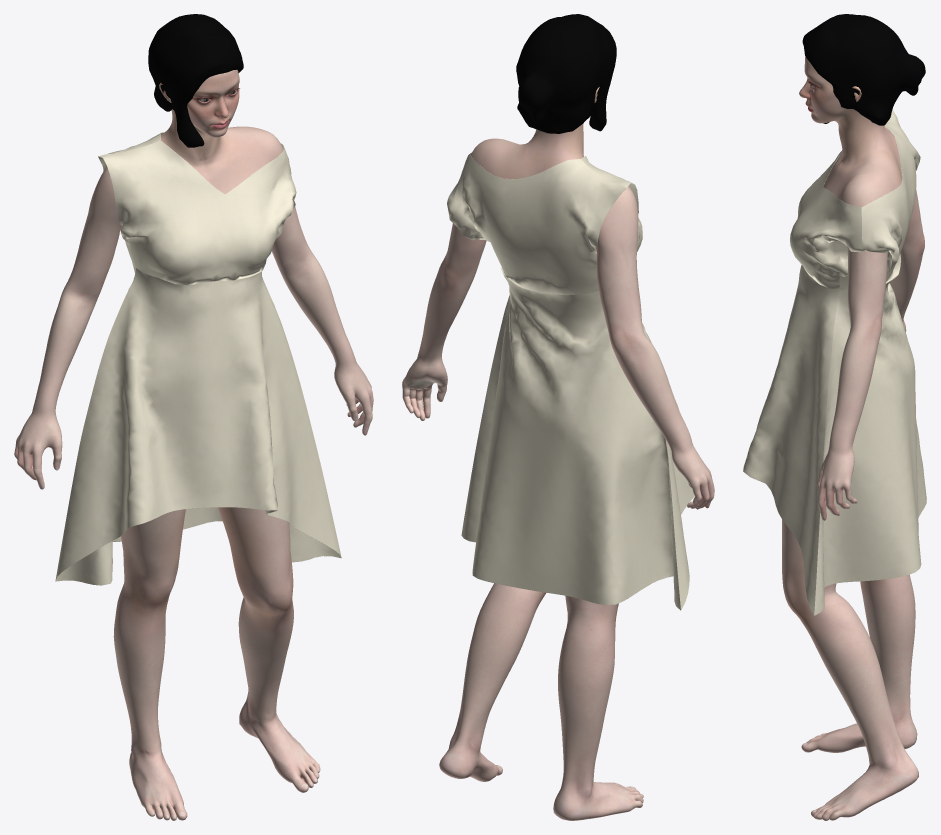
Rendered from Dynamic_2.obj.
3 views of the same model, side by side, from view 1: azimuth 30°, elevation 25°; view 2: azimuth 150°, elevation 25°; view 3: azimuth 270°, elevation 25° (orthographic). The views are drawn at different scales.
Bounding box in the file's own units: 775 × 1773 × 390.
